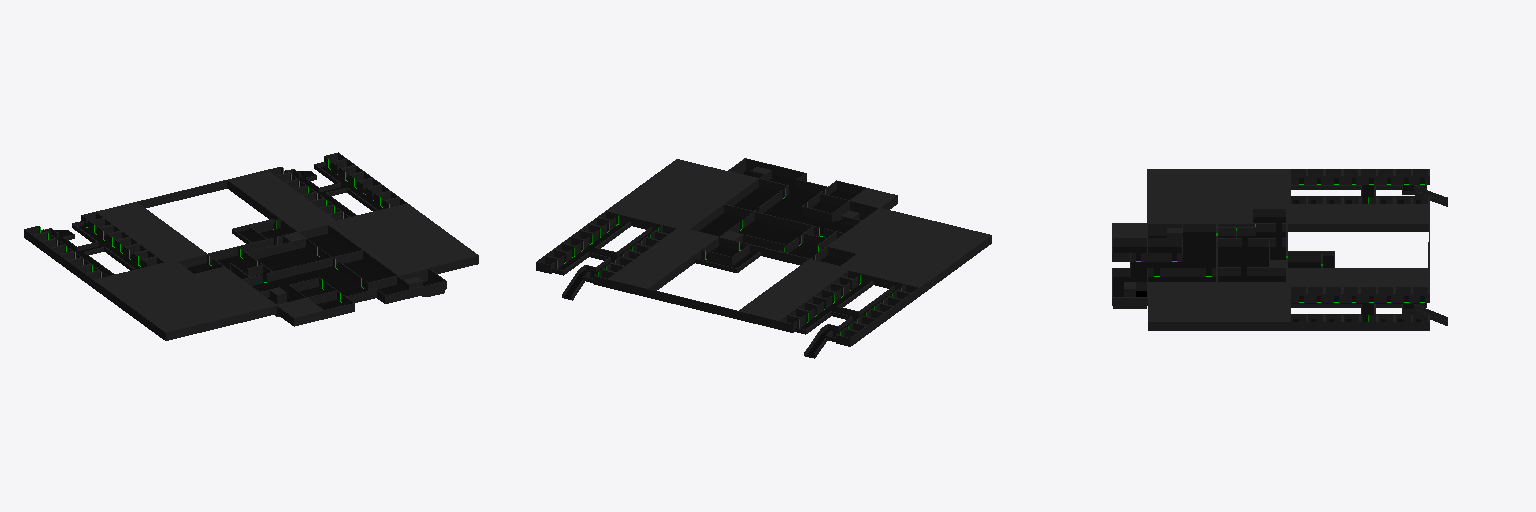
The model's file is prison_secondfloor.obj.
3 views of the same model, side by side, from view 1: azimuth 30°, elevation 25°; view 2: azimuth 150°, elevation 25°; view 3: azimuth 270°, elevation 25° (orthographic).
Parts seen in each view (by area): view 1: map_blockR_map_prison_layer_outline_bottom.002; view 2: map_blockR_map_prison_layer_outline_bottom.002; view 3: map_blockR_map_prison_layer_outline_bottom.002.
Part boxes in pixels (bbox=[...]): map_blockR_map_prison_layer_outline_bottom.002: bbox=[24, 152, 478, 340]; map_blockR_map_prison_layer_outline_bottom.002: bbox=[536, 158, 991, 358]; map_blockR_map_prison_layer_outline_bottom.002: bbox=[1112, 169, 1447, 330].
Size of the model in its own units: 1.04 by 0.0659 by 0.957.